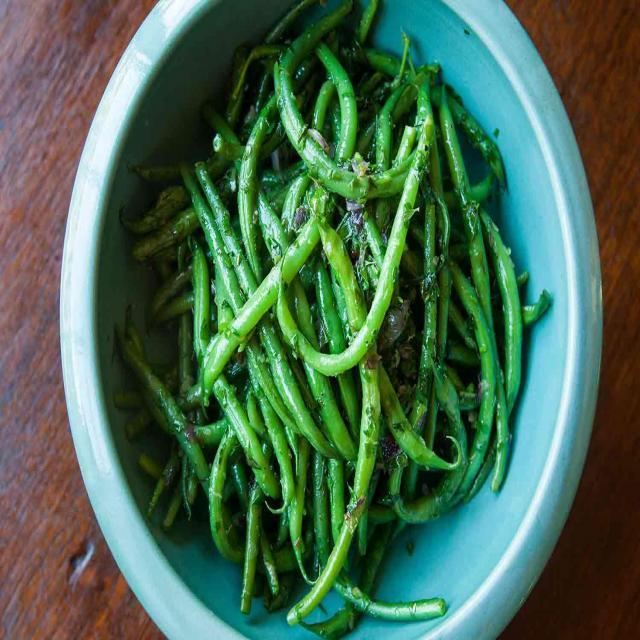Beans: (110, 0, 564, 633)
